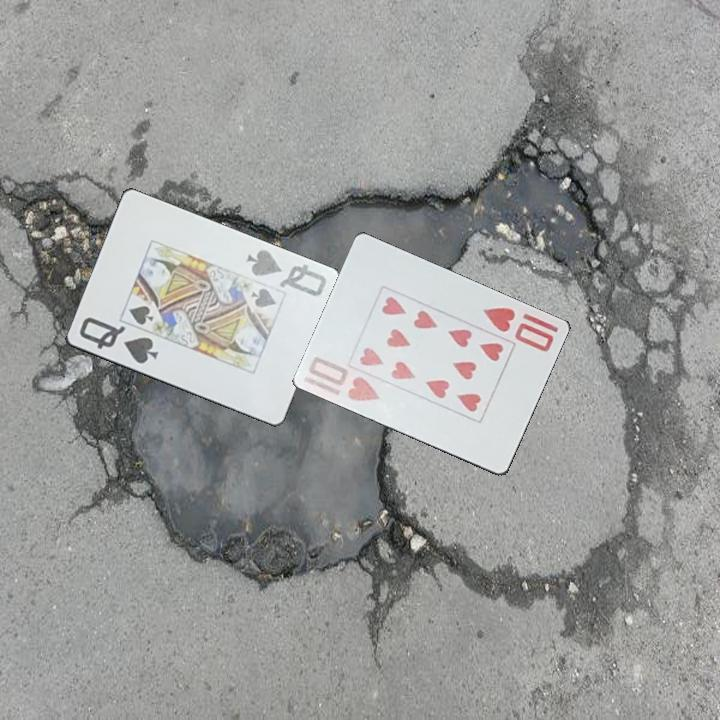Qs: (75, 313, 161, 367), (243, 246, 329, 300)
Th: (301, 352, 384, 404), (479, 303, 557, 355)
